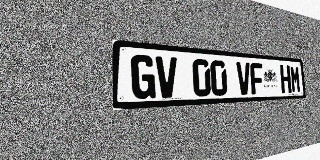0: (192, 59, 211, 97), (210, 60, 227, 96)
F: (250, 63, 264, 94)
G: (131, 54, 156, 99)
H: (280, 65, 292, 93)
M: (290, 66, 301, 93)
V: (155, 56, 178, 98), (236, 62, 251, 95)
